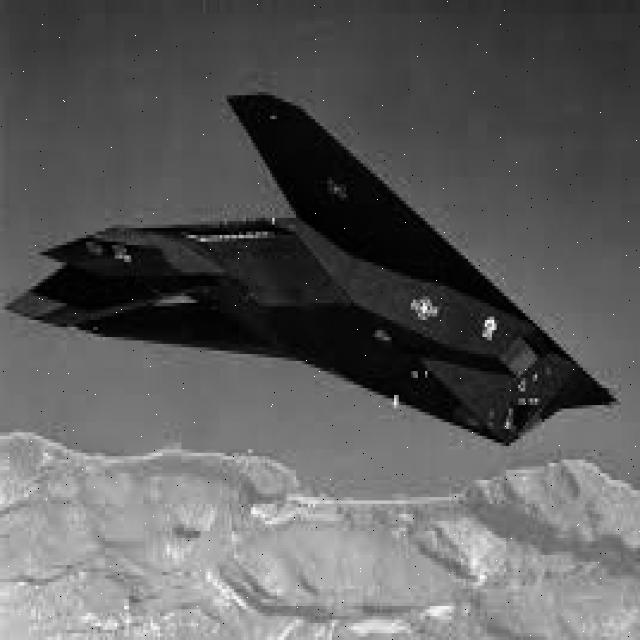F117: (0, 60, 632, 456)
